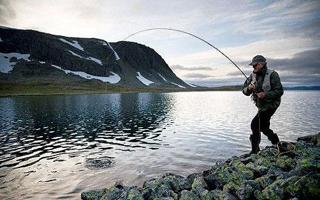person: (242, 56, 285, 158)
